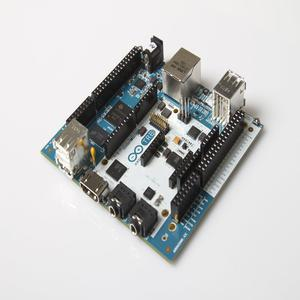duino: (38, 25, 263, 264)
